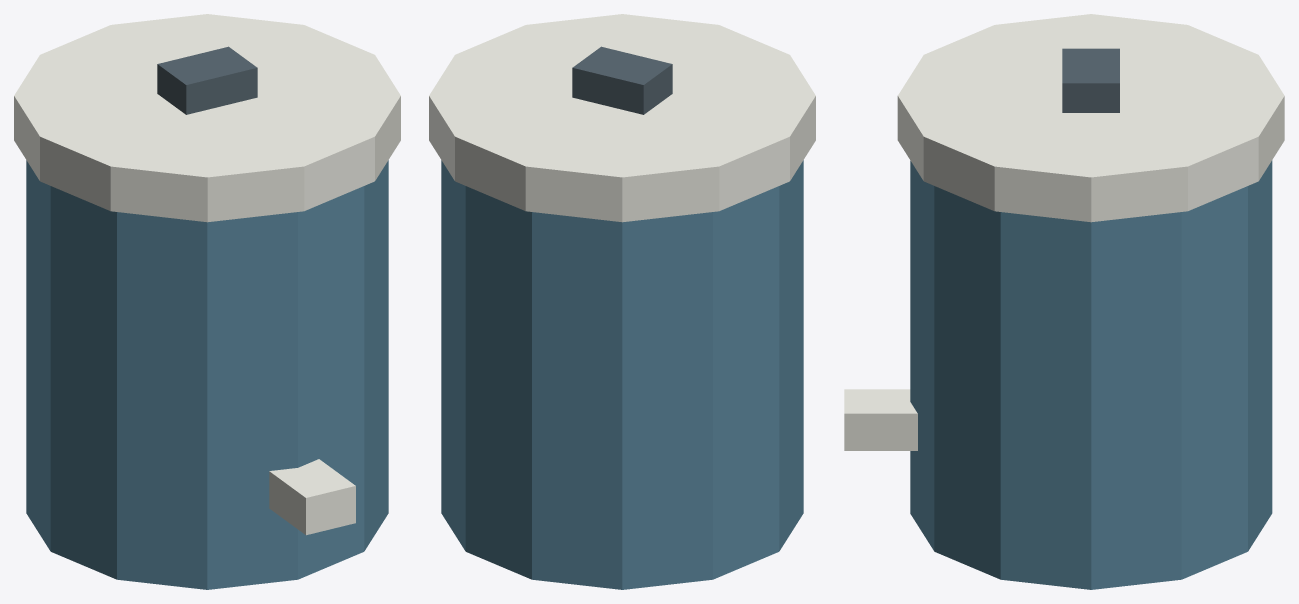
The model's file is football-soccer-club-grounds-drink-cooler-e552e4f8.glb.
3 renders of one model, left to right at view 1: azimuth 30°, elevation 25°; view 2: azimuth 150°, elevation 25°; view 3: azimuth 270°, elevation 25°, orthographic.
Parts seen in each view (by area): view 1: drink-cooler; view 2: drink-cooler; view 3: drink-cooler.
Part boxes in pixels (left/top/right/bottom): drink-cooler: left=14, top=14, right=400, bottom=589; drink-cooler: left=429, top=14, right=815, bottom=589; drink-cooler: left=844, top=14, right=1284, bottom=589.
Size of the model in its own units: 0.47 by 0.6 by 0.535.
